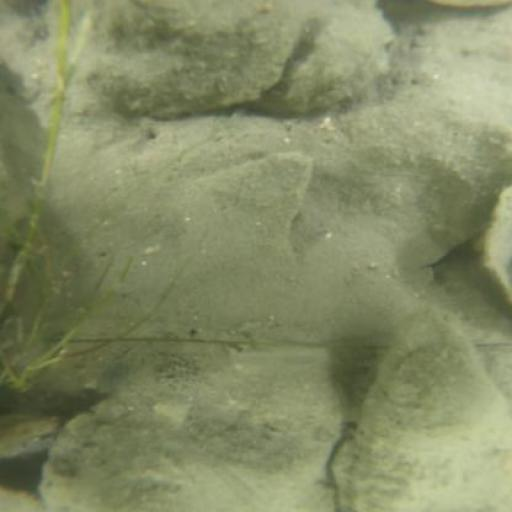Oyster-Closed: (33, 314, 353, 511), (74, 1, 299, 121), (277, 11, 388, 109), (488, 186, 512, 302)
Oyster-Open: (331, 320, 512, 512)
